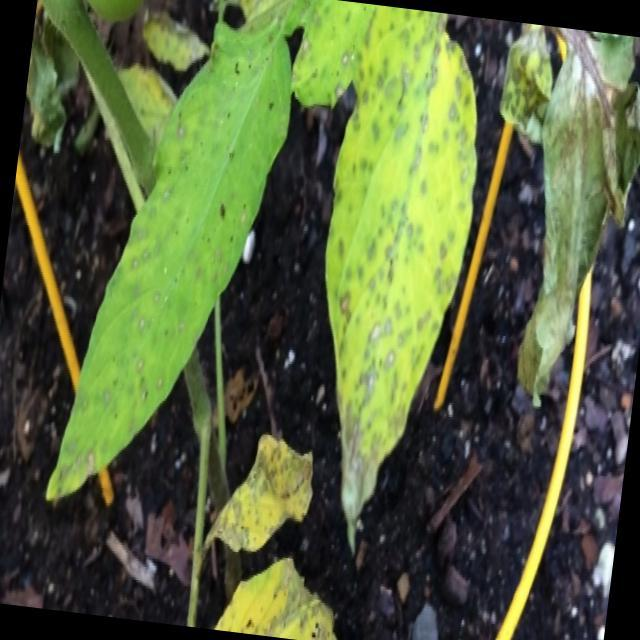Tomato Septoria spot leaf: (39, 0, 305, 535), (286, 21, 496, 570), (202, 424, 324, 572)
